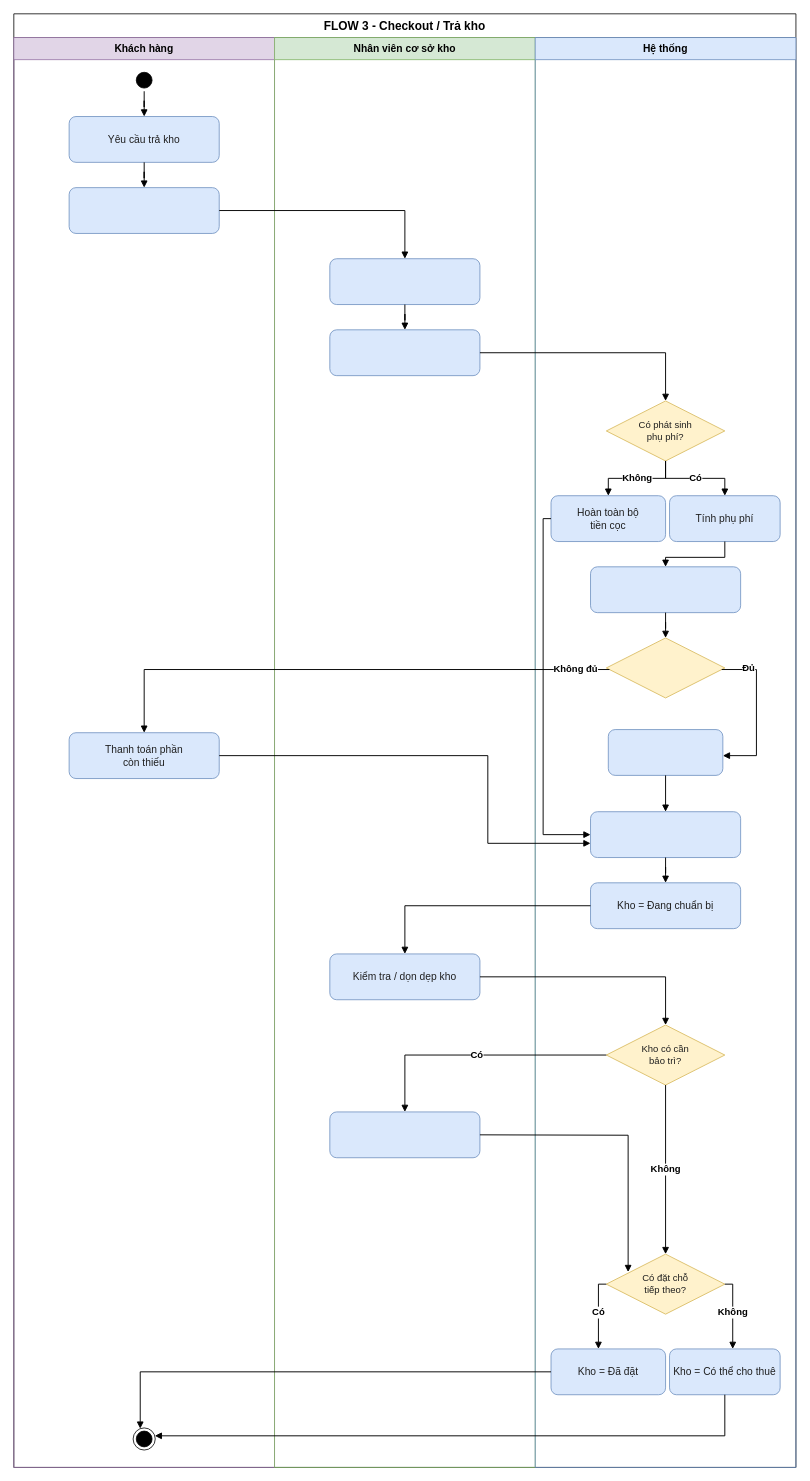
This 810x1481 diagram has some shape labels left out. Each missing label, with the centre of its shape:
"Hoàn phần tiền cọc còn lại" belongs at point (665, 752).
"Khấu trừ phụ phí vào tiền cọc" belongs at point (665, 589).
"Kiểm tra tình trạng kho" belongs at point (404, 352).
"Lấy toàn bộ hàng ra khỏi kho" belongs at point (143, 210).
"Nhận lại kho và khóa / thẻ truy cập" belongs at point (404, 281).
"Thực hiện bảo trì" belongs at point (404, 1134).
"Tiền cọc đủ?" belongs at point (665, 667).
"Đóng phiên thuê" belongs at point (665, 834).
